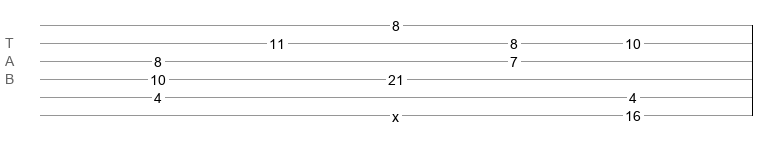10: (150, 72, 166, 82), (625, 36, 641, 46)
11: (269, 36, 285, 46)
16: (625, 108, 641, 118)
21: (388, 72, 404, 82)
4: (154, 90, 162, 100), (629, 90, 637, 100)
7: (510, 54, 518, 64)
8: (154, 54, 162, 64), (392, 18, 400, 28), (510, 36, 518, 46)
x: (392, 109, 399, 117)
